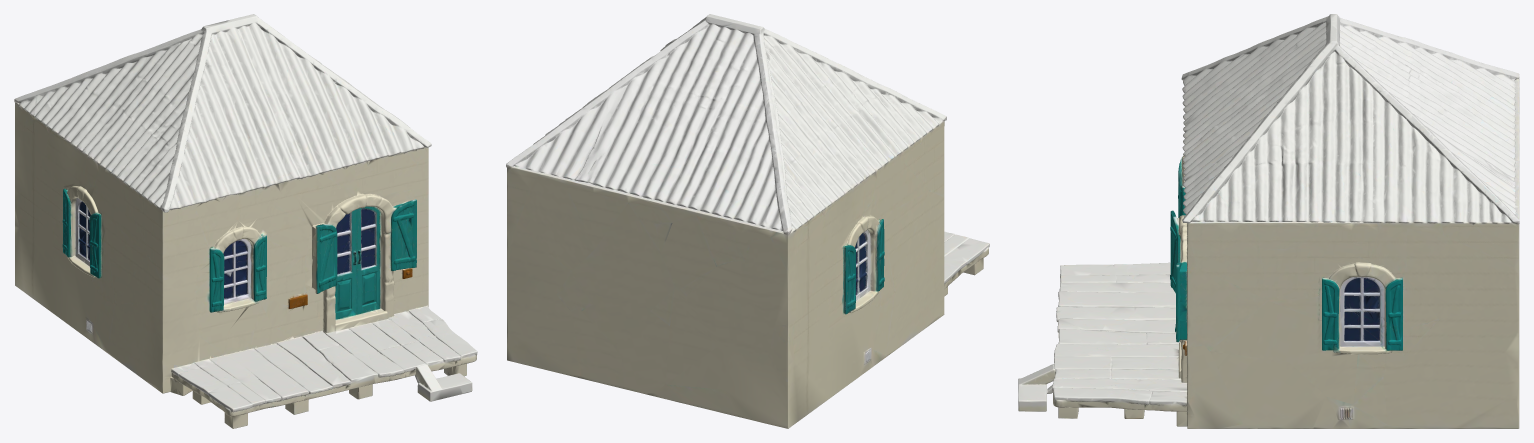
File: bermuda-house-b.glb
3 renders of one model, left to right at view 1: azimuth 30°, elevation 25°; view 2: azimuth 150°, elevation 25°; view 3: azimuth 270°, elevation 25°, orthographic. The views are drawn at different scales.
Size of the model in its own units: 1.37 by 1.38 by 1.9.
1 material, 1 textured.
